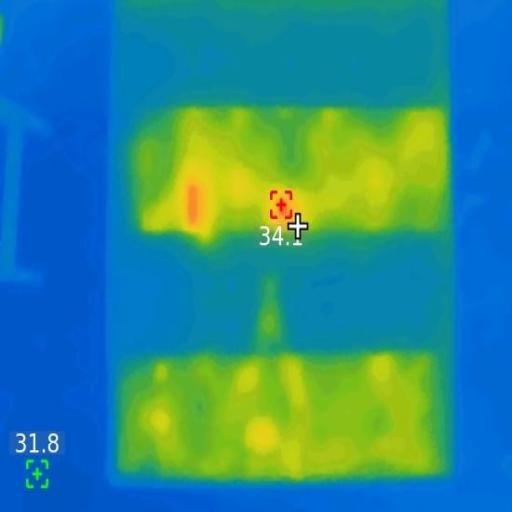hotspot: (269, 188, 295, 222)
